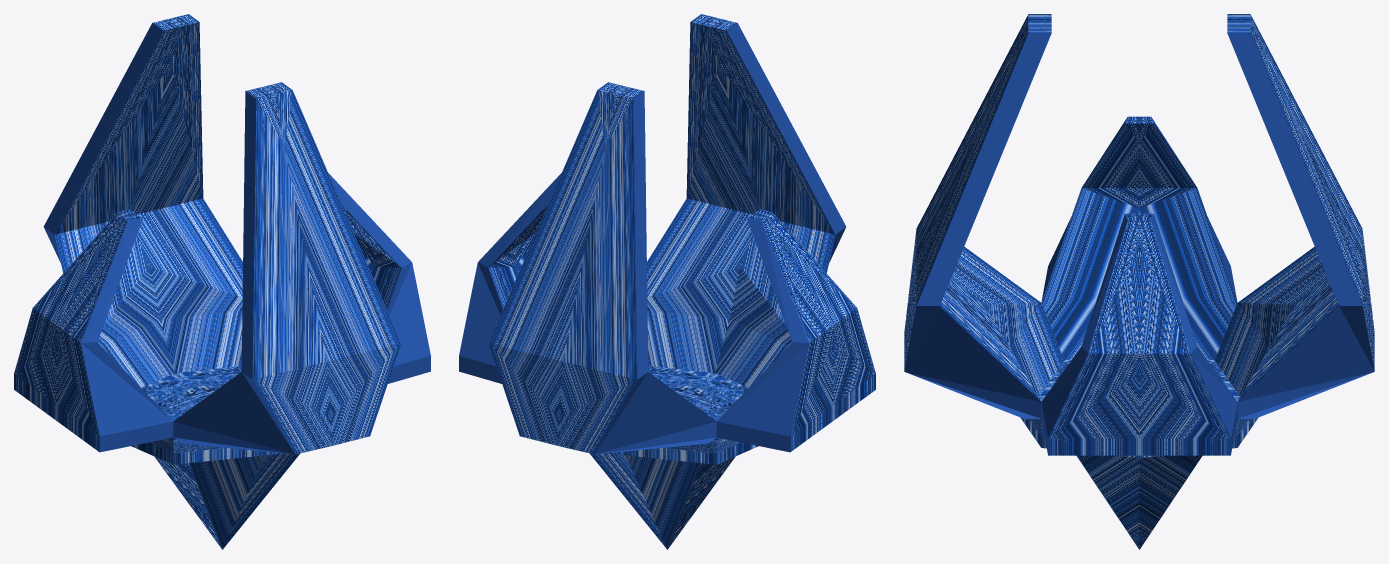
File: laser.DAE
The picture shows the model from 3 angles, left to right: view 1: azimuth 30°, elevation 25°; view 2: azimuth 150°, elevation 25°; view 3: azimuth 270°, elevation 25°; orthographic projection. The views are drawn at different scales.
Visible parts, largest first — view 1: Box001; view 2: Box001; view 3: Box001.
Boxes of the visible parts, x1,y1,x2,y2 form: Box001: [14, 14, 430, 549]; Box001: [459, 14, 875, 549]; Box001: [904, 14, 1374, 549].
Size of the model in its own units: 21.77 by 25.09 by 30.99.
Materials: 1 (1 with a texture image).
